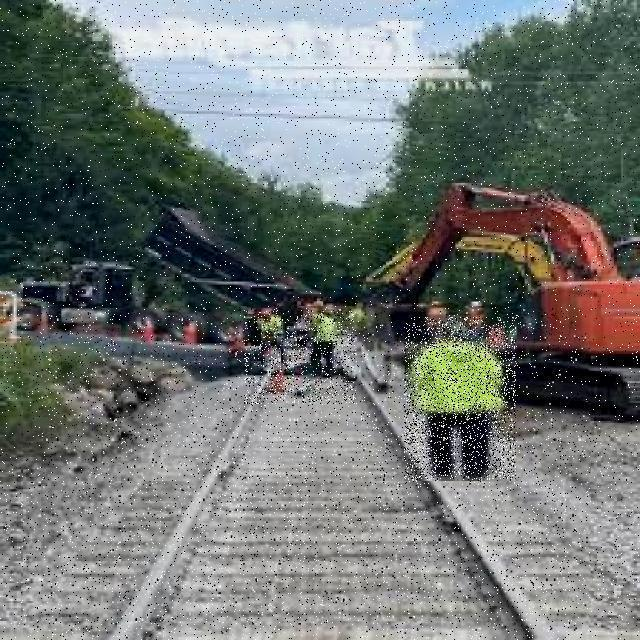rail: (37, 309, 589, 639)
